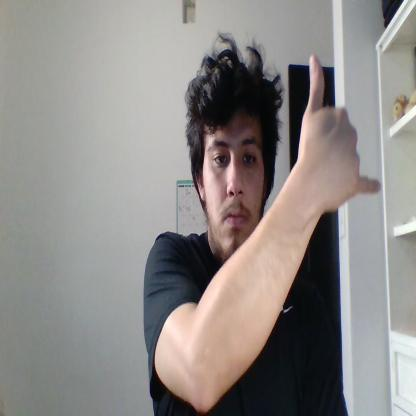Y: (297, 53, 381, 211)
